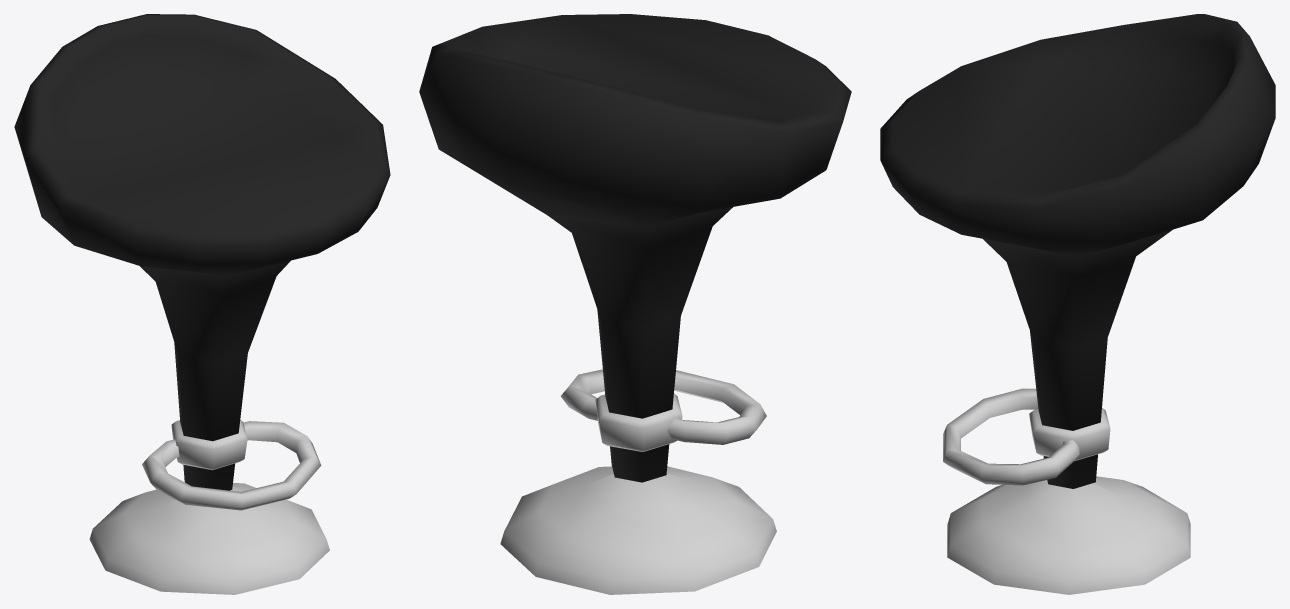
The model's file is chair_048.fbx.
3 views of the same model, side by side, from view 1: azimuth 30°, elevation 25°; view 2: azimuth 150°, elevation 25°; view 3: azimuth 270°, elevation 25° (orthographic). The views are drawn at different scales.
Parts seen in each view (by area): view 1: chair_048; view 2: chair_048; view 3: chair_048.
Part boxes in pixels (left/top/right/bottom): chair_048: left=14, top=14, right=390, bottom=594; chair_048: left=419, top=14, right=851, bottom=594; chair_048: left=880, top=14, right=1275, bottom=594.
Size of the model in its own units: 73.11 by 73.02 by 101.
